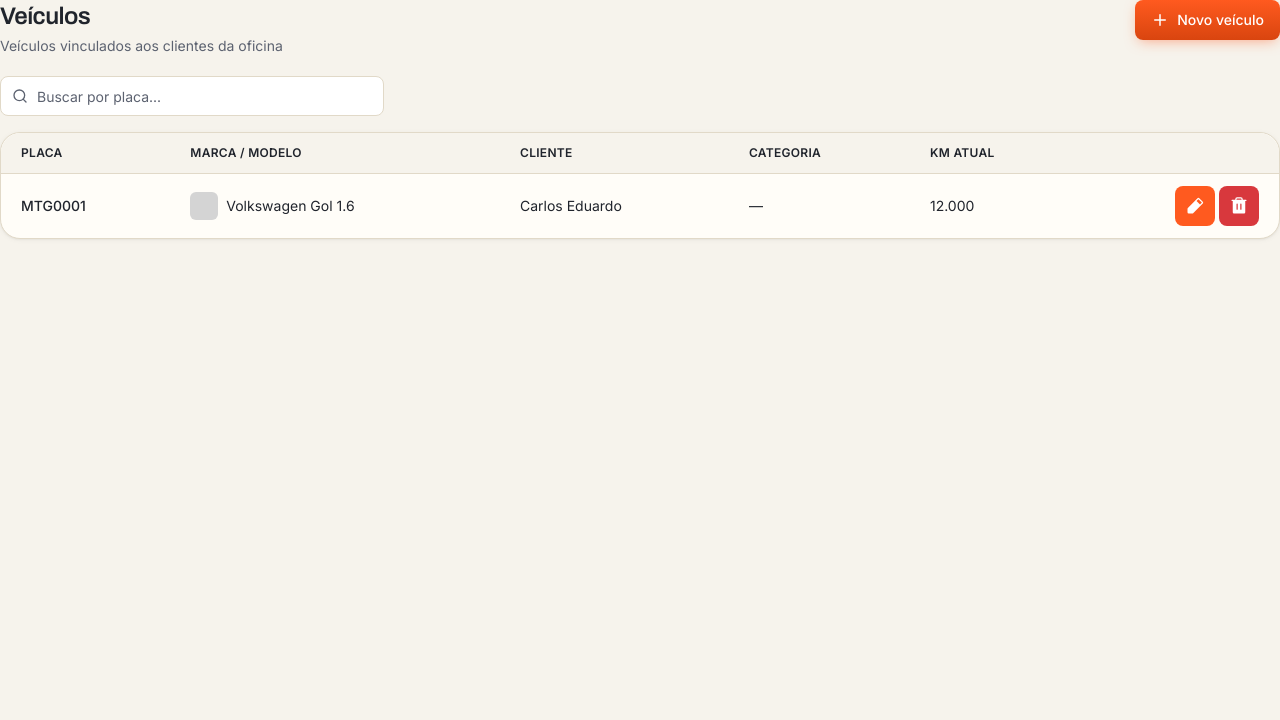
VeiculosPage › dismisses the delete confirmation via Cancelar
What coordinates should you click on to do the following:
click the button named "Remover"
I would click on:
 (1239, 206)
Its box is [1219,186,1259,226].
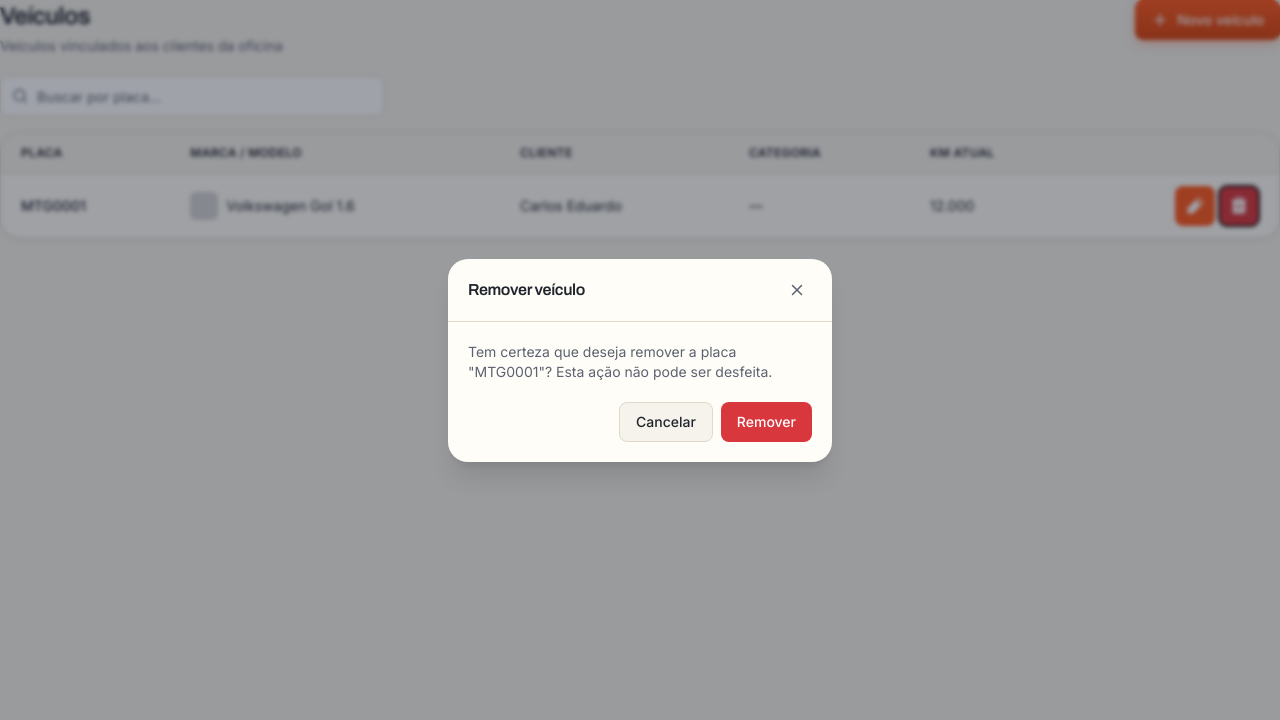
Now the heading "Remover veículo" is shown, box [468,278,585,302]
What coordinates should you click on to do the following:
click the button "Cancelar"
I would click on:
 (666, 422)
Its box is [619,402,713,442].
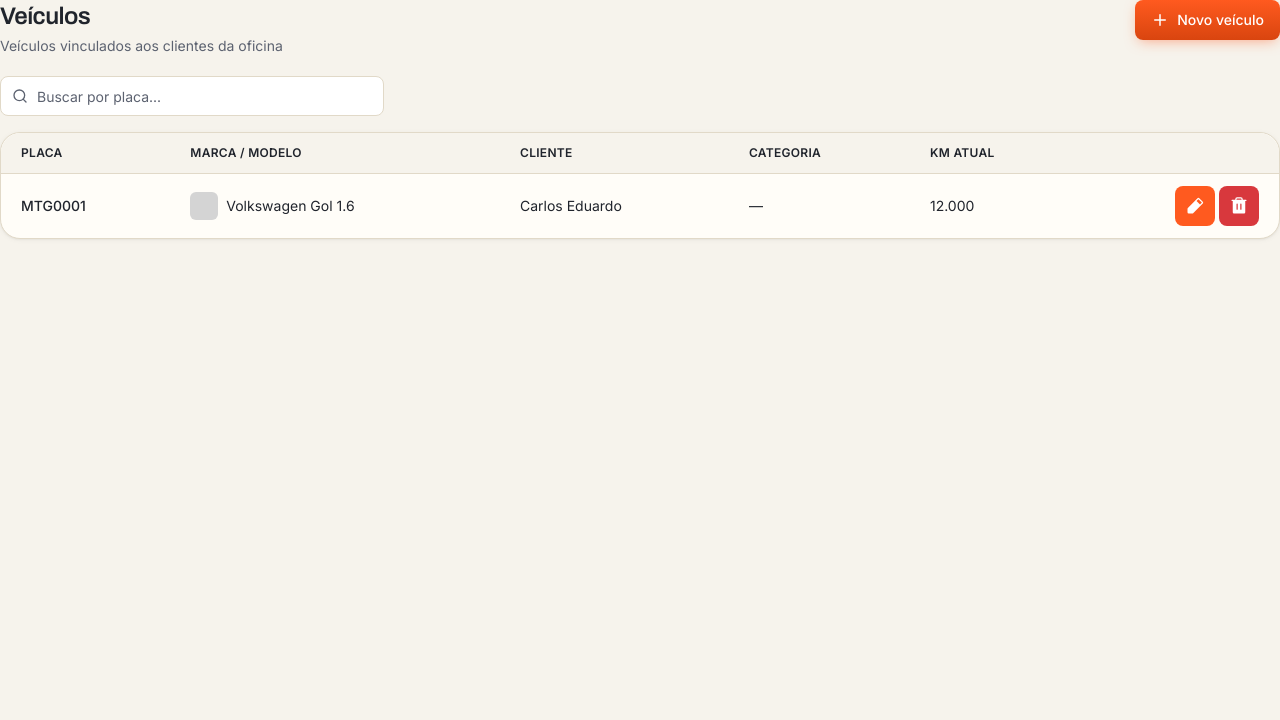
Now the heading "Remover veículo" is gone
